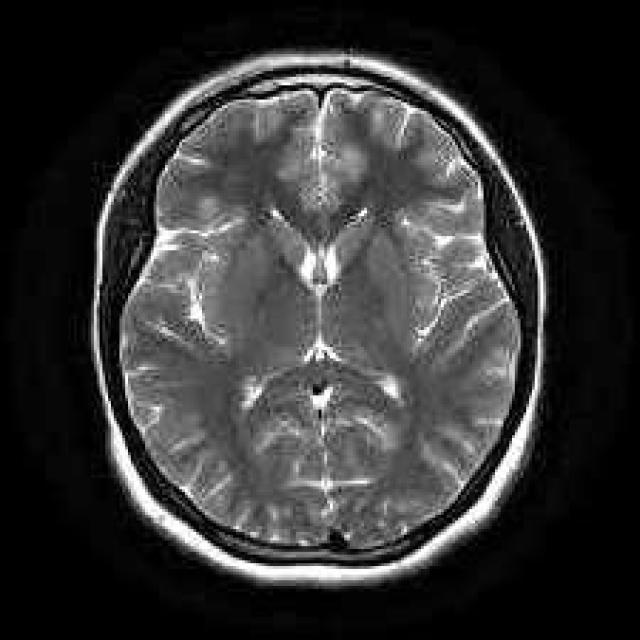notumor: (91, 51, 546, 586)
